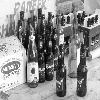beer: (26, 33, 41, 94)
